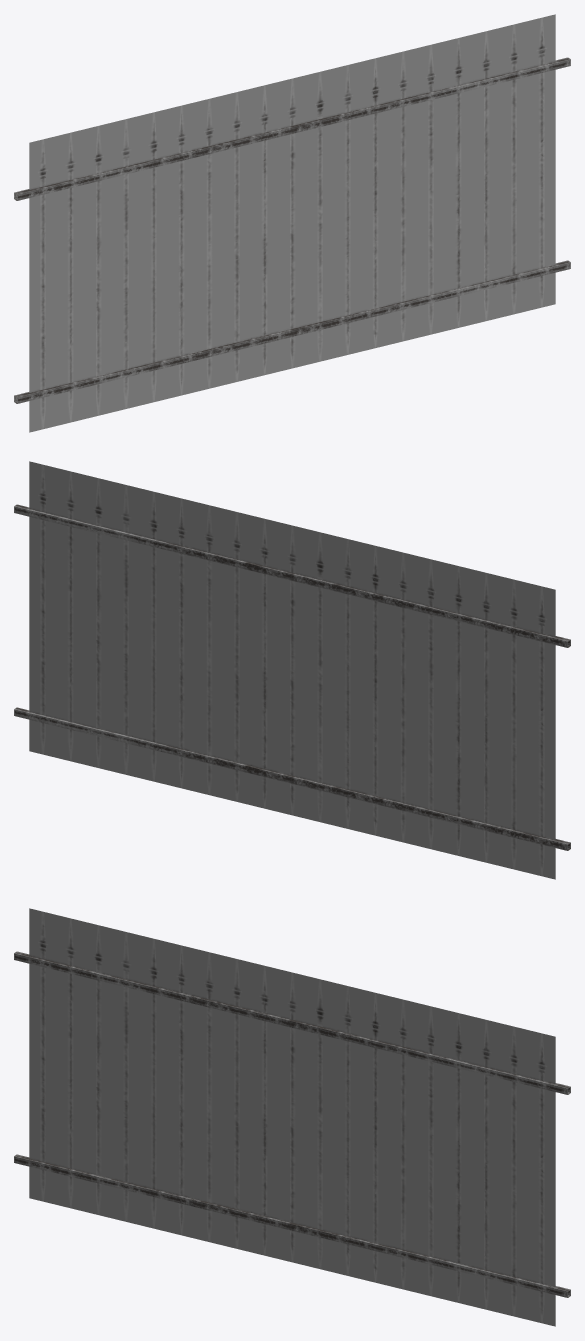
The model's file is Metal Fence 1 LOD.fbx.
3 views of the same model, one above another, from view 1: azimuth 30°, elevation 25°; view 2: azimuth 150°, elevation 25°; view 3: azimuth 330°, elevation 25° (orthographic).
Visible parts, largest first — view 1: Metal Fence 1 LOD; view 2: Metal Fence 1 LOD; view 3: Metal Fence 1 LOD.
Part boxes in pixels (<box>): Metal Fence 1 LOD: <box>14,14,570,432</box>; Metal Fence 1 LOD: <box>14,461,570,879</box>; Metal Fence 1 LOD: <box>14,908,570,1326</box>.
Bounding box in the file's own units: 400 × 200 × 3.57.
1 material, 1 textured.
